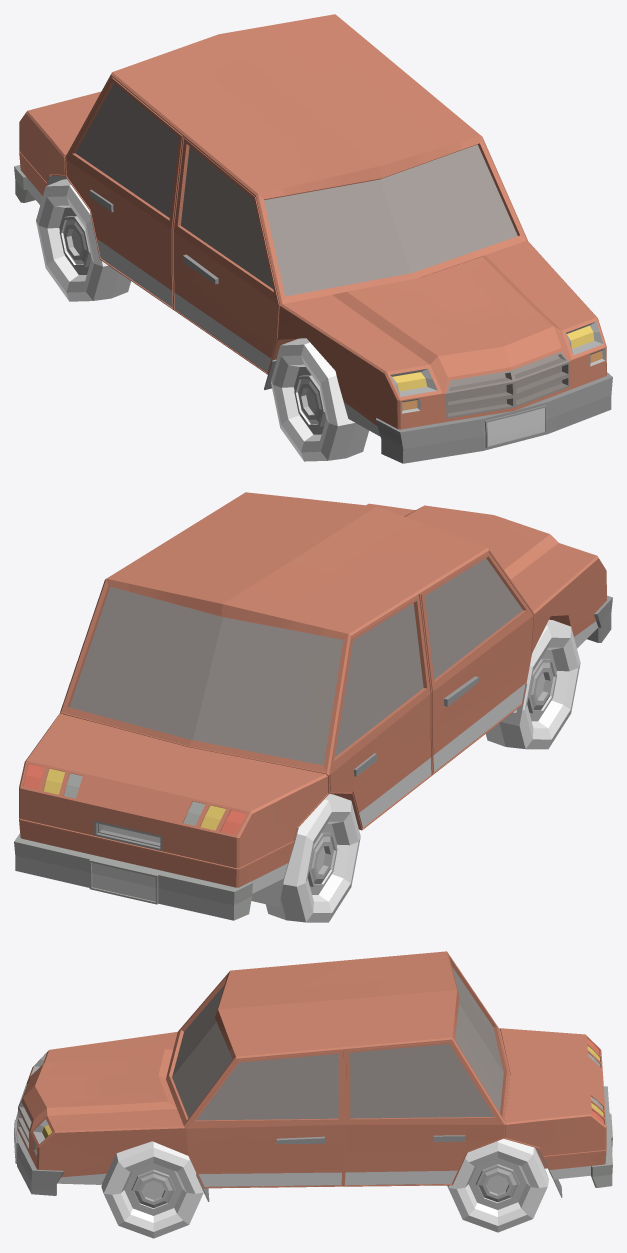
File: RedCarWithWheel.fbx
3 views of the same model, one above another, from view 1: azimuth 30°, elevation 25°; view 2: azimuth 150°, elevation 25°; view 3: azimuth 270°, elevation 25° (orthographic). The views are drawn at different scales.
Parts seen in each view (by area): view 1: Red_Car, Red_Car.004, Red_Car.003; view 2: Red_Car, Red_Car.003, Red_Car.004; view 3: Red_Car, Red_Car.001, Red_Car.002.
Boxes of the visible parts, x1,y1,x2,y2 form: Red_Car: (14, 14, 612, 463); Red_Car.004: (271, 338, 369, 461); Red_Car.003: (36, 179, 130, 301); Red_Car: (14, 492, 612, 920); Red_Car.003: (266, 794, 360, 922); Red_Car.004: (486, 619, 580, 749); Red_Car: (14, 951, 612, 1201); Red_Car.001: (101, 1141, 203, 1238); Red_Car.002: (447, 1138, 548, 1232).
Size of the model in its own units: 137 by 127 by 344.
